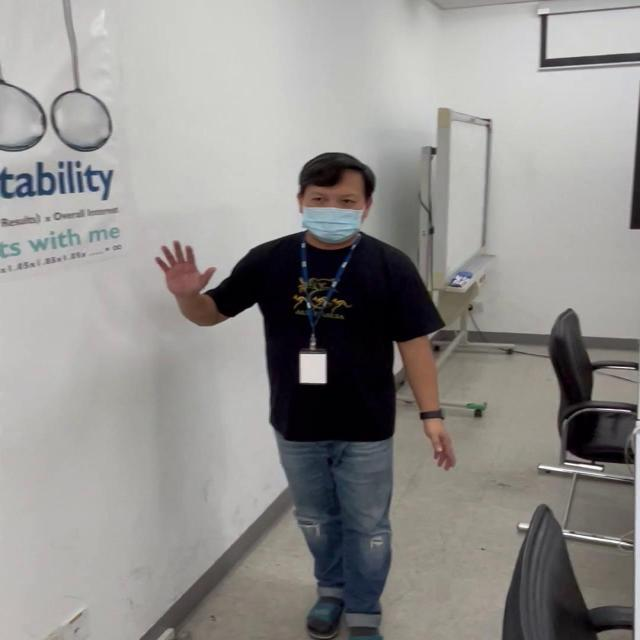bare_hand: (153, 236, 216, 301), (420, 412, 457, 474)
